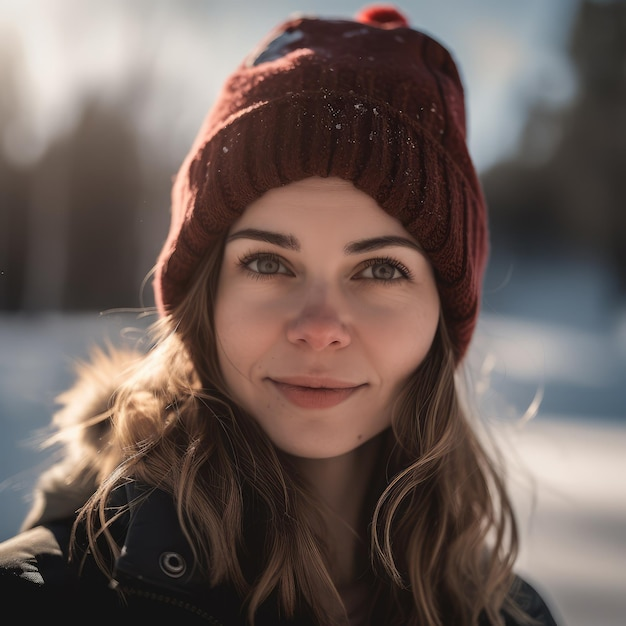teen: (164, 122, 477, 475)
